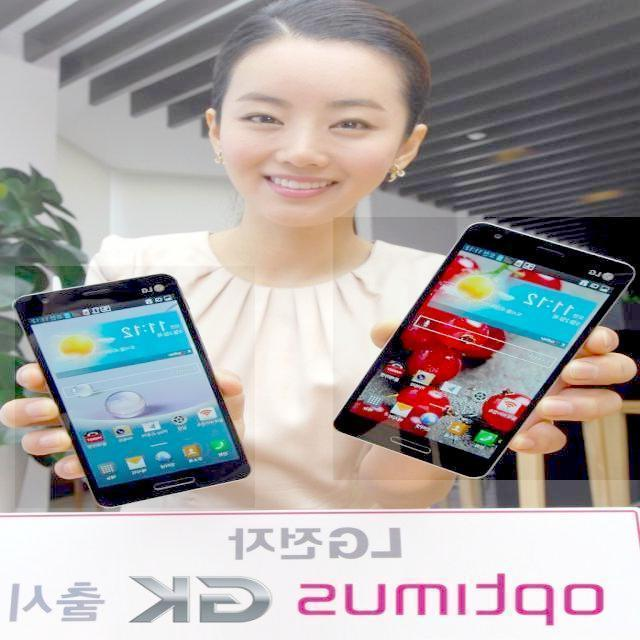mobile: (333, 217, 640, 480), (14, 266, 254, 509)
